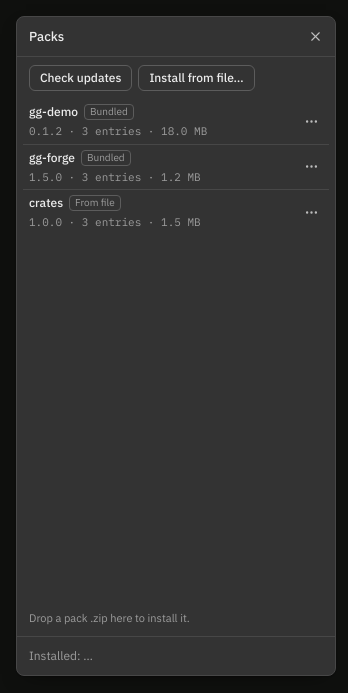
Test case: PacksSheet › an install from file clears the last check’s line
Click the button "Check updates" at (81,78), box [29,65,132,91]
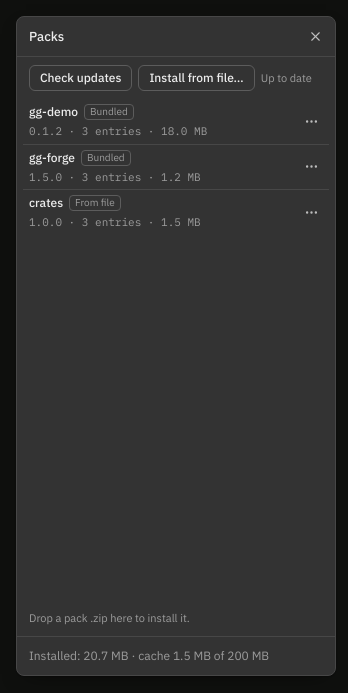
expect the text "Up to date" is shown: met, box [261,70,312,86]
